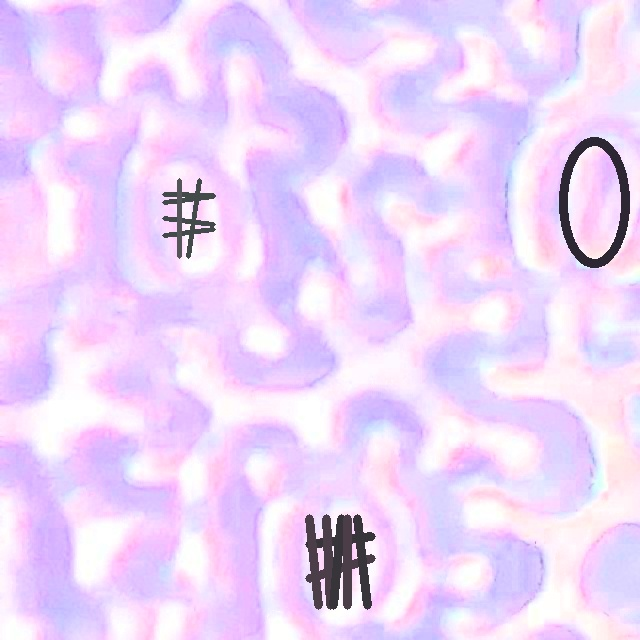close: (305, 514, 375, 609), (162, 178, 215, 258)
open: (558, 136, 629, 267)
